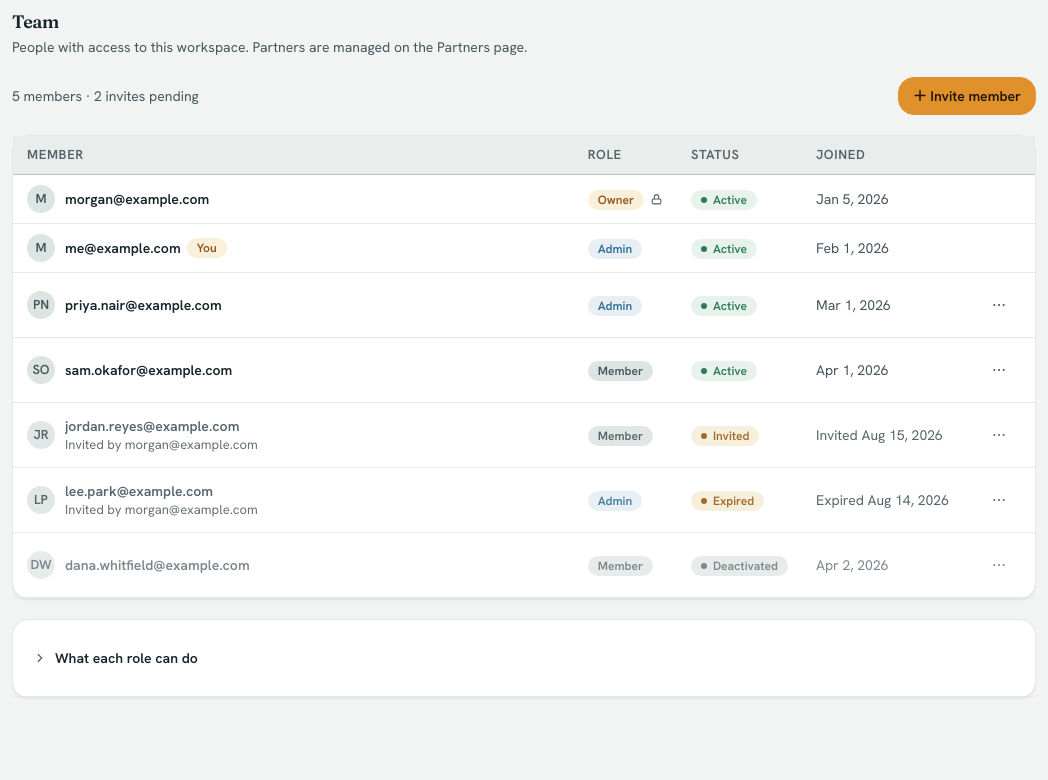
Scenario: TM-08/TM-09: seat lifecycle dialogs › resending an invite re-issues the link and toasts
Click the button named "Actions for jordan.reyes@example.com".
click(999, 435)  # box x1=977 y1=413 x2=1021 y2=457
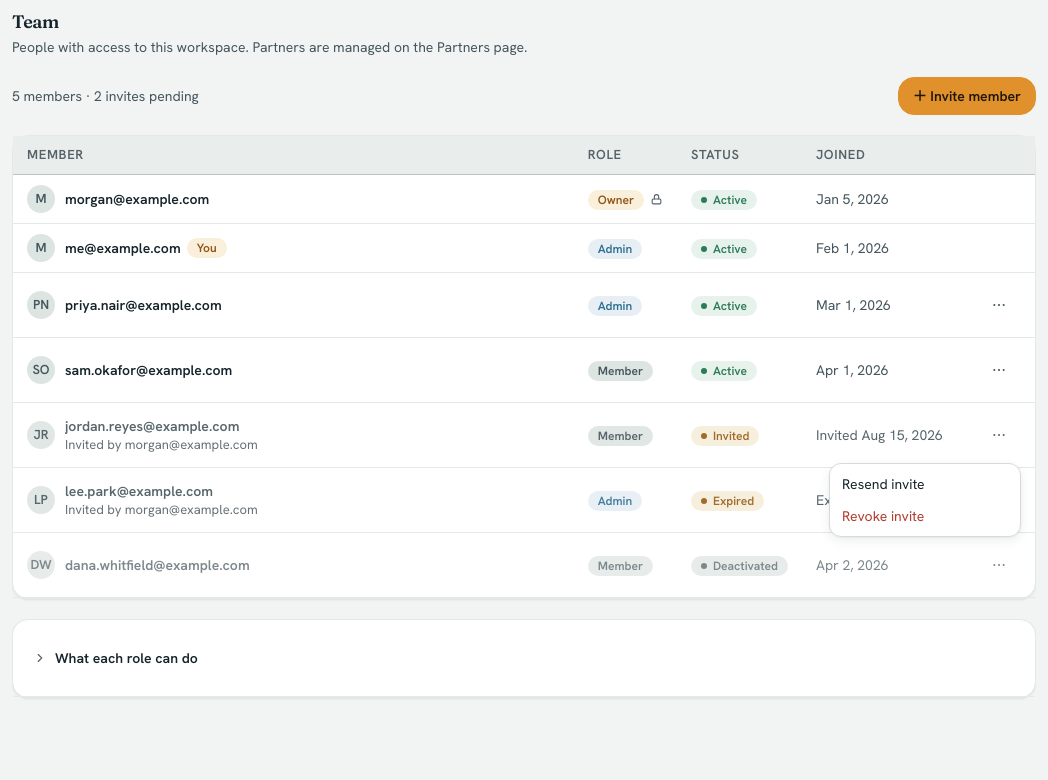
Click the menu item "Resend invite".
click(883, 484)  # box x1=842 y1=475 x2=925 y2=493
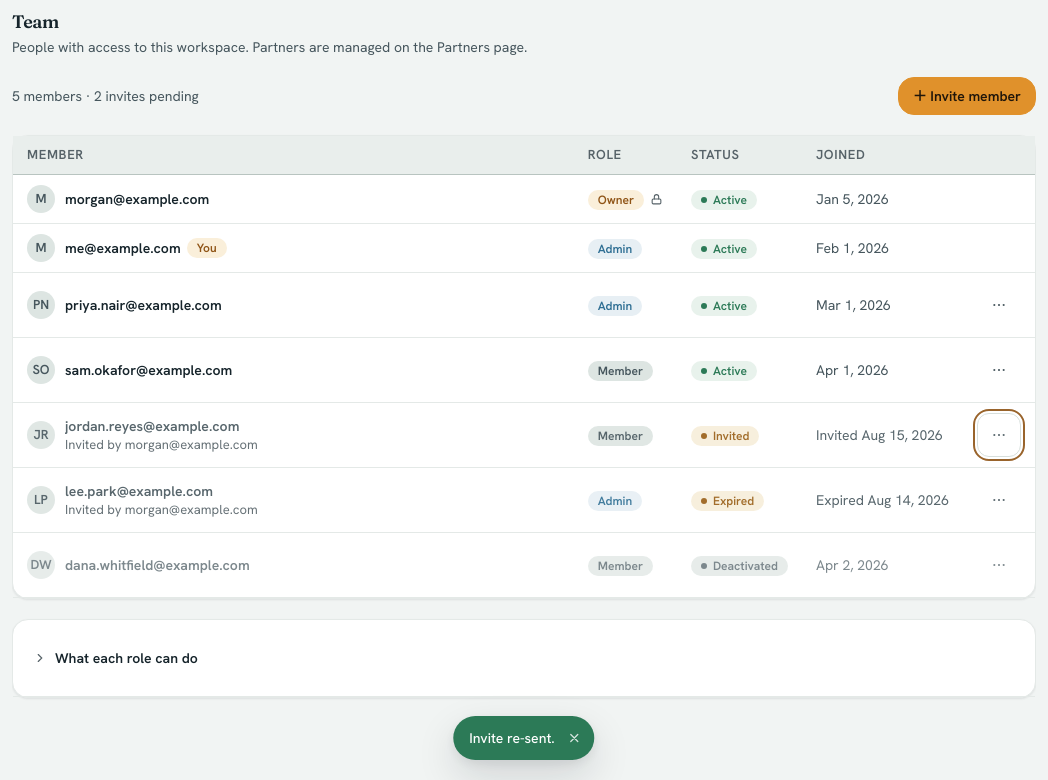
expect the text "Invite re-sent." is shown: met, box x1=469 y1=728 x2=555 y2=748
